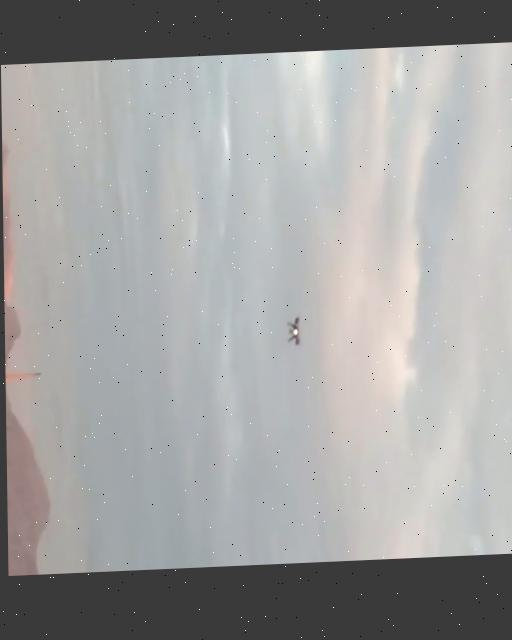drone: (282, 313, 304, 353)
